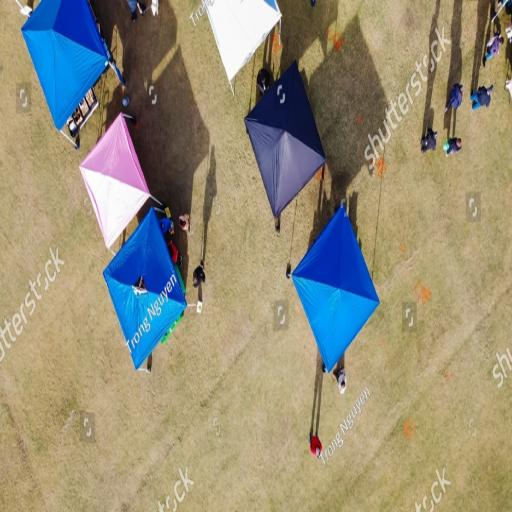tent: (290, 208, 382, 372), (102, 208, 186, 366), (20, 4, 110, 130)
